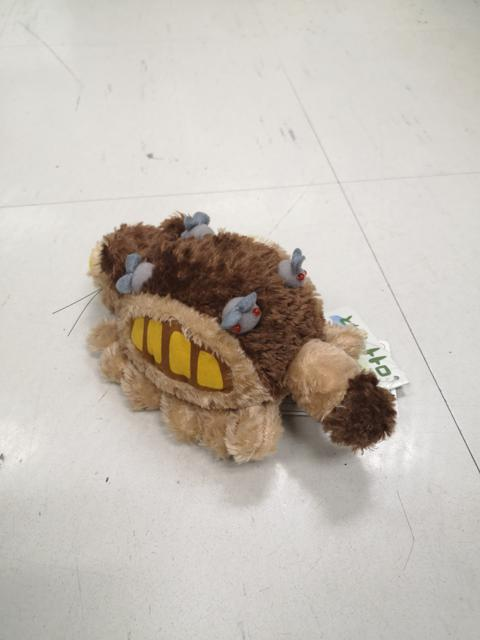nekobus: (49, 206, 408, 475)
